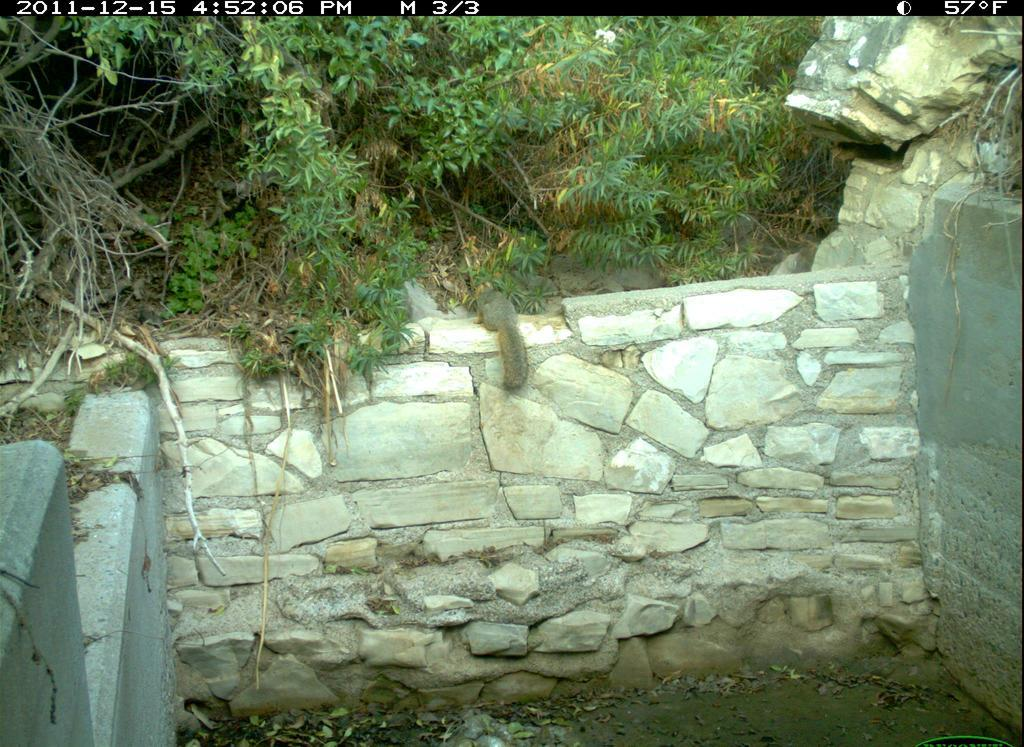squirrel: (468, 281, 531, 394)
